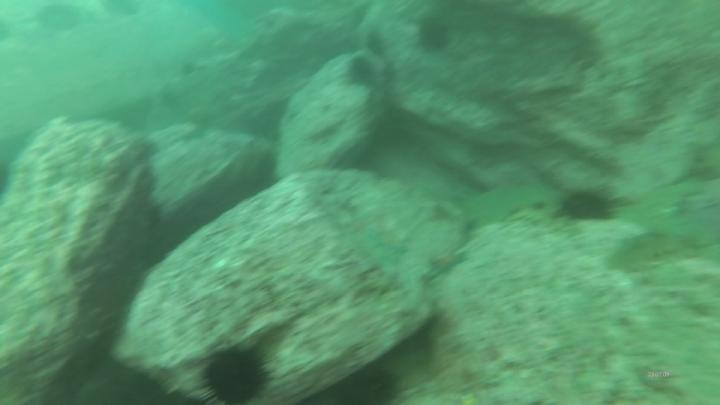echinus: (201, 343, 270, 405), (560, 187, 614, 224), (414, 22, 454, 54), (348, 56, 378, 87)
